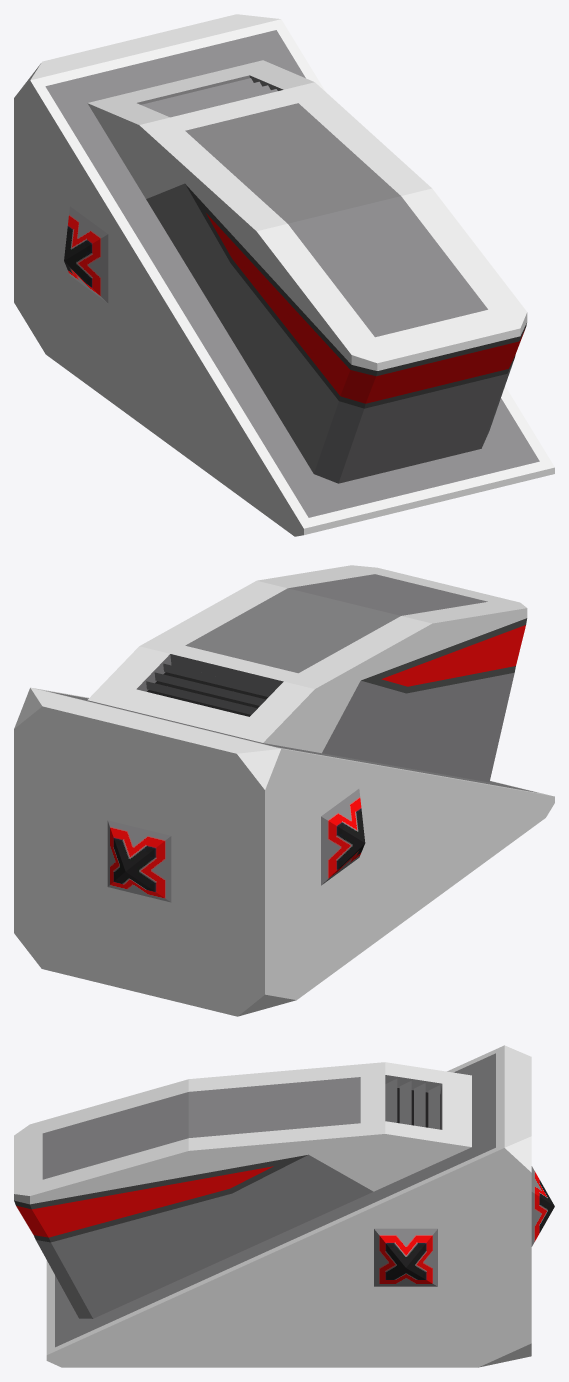
File: HS Rhino AI.obj
3 views of the same model, one above another, from view 1: azimuth 30°, elevation 25°; view 2: azimuth 150°, elevation 25°; view 3: azimuth 270°, elevation 25° (orthographic). The views are drawn at different scales.
Visible parts, largest first — view 1: HS_Rhino_AI_Cab_HS_Inset_Slope_Cube_HS_One_Block.003; view 2: HS_Rhino_AI_Cab_HS_Inset_Slope_Cube_HS_One_Block.003; view 3: HS_Rhino_AI_Cab_HS_Inset_Slope_Cube_HS_One_Block.003.
Boxes of the visible parts, x1,y1,x2,y2 form: HS_Rhino_AI_Cab_HS_Inset_Slope_Cube_HS_One_Block.003: (14, 14, 554, 536); HS_Rhino_AI_Cab_HS_Inset_Slope_Cube_HS_One_Block.003: (14, 565, 554, 1016); HS_Rhino_AI_Cab_HS_Inset_Slope_Cube_HS_One_Block.003: (14, 1045, 554, 1367).
Bounding box in the file's own units: 1.2 × 1.1 × 2.23.
